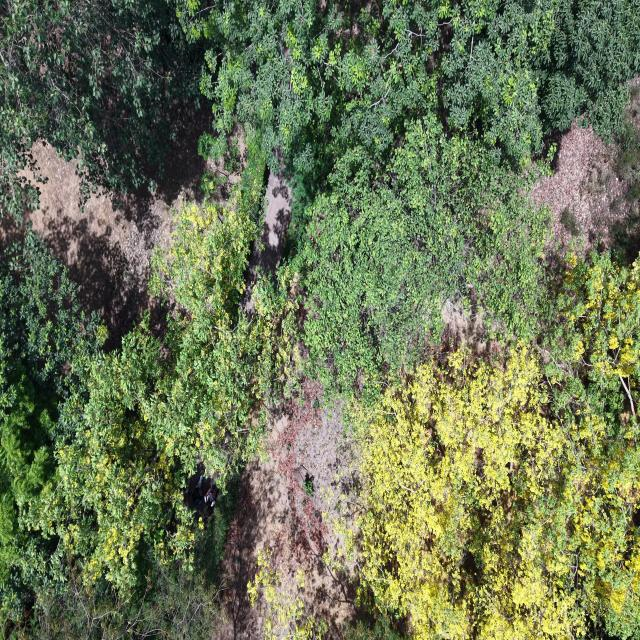DRY_AREA: (24, 112, 239, 350), (24, 112, 209, 349), (25, 112, 209, 348), (213, 380, 357, 639), (212, 381, 356, 639), (214, 380, 357, 639), (214, 381, 357, 639), (212, 382, 355, 639), (25, 145, 183, 349), (532, 77, 639, 268), (532, 122, 639, 264), (532, 123, 639, 260), (532, 122, 639, 255), (533, 123, 629, 250), (241, 169, 291, 312), (242, 171, 291, 311), (255, 172, 291, 272), (442, 300, 495, 352)
VEGETATION_TREE: (0, 0, 639, 639), (2, 144, 297, 636), (31, 148, 295, 593), (359, 255, 639, 638), (177, 0, 639, 177), (360, 347, 639, 638), (292, 116, 548, 389), (360, 348, 583, 639), (151, 139, 297, 484), (0, 0, 201, 220), (31, 323, 194, 592), (0, 231, 105, 618), (18, 491, 233, 639), (541, 253, 639, 422), (20, 565, 220, 639), (539, 0, 639, 135), (248, 548, 326, 639), (614, 83, 639, 263), (345, 618, 401, 639)
